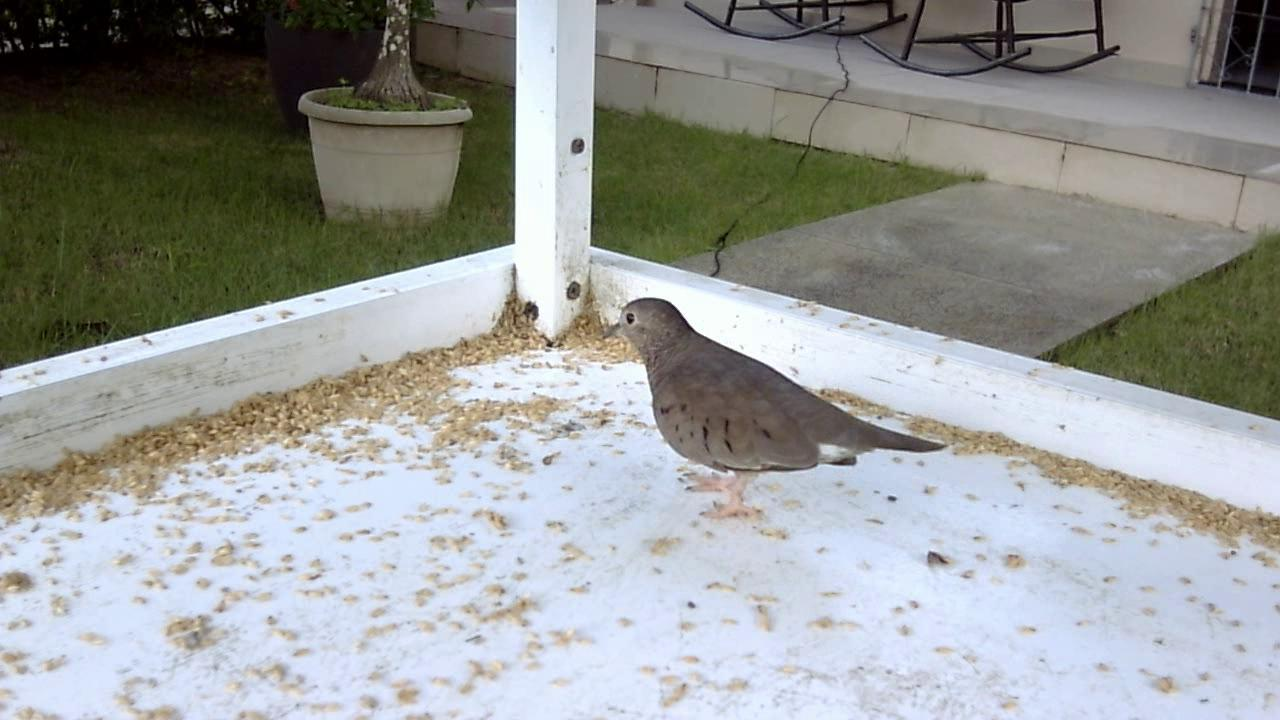rolinha: (597, 288, 953, 499)
